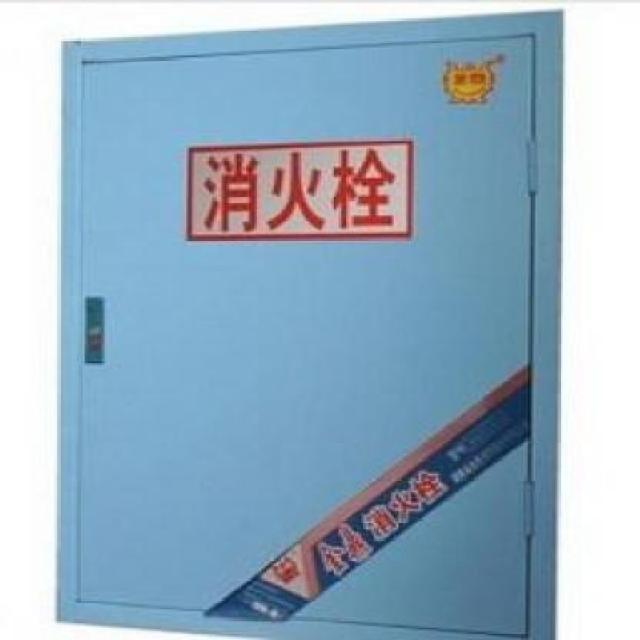firehydrant: (48, 3, 570, 640)
